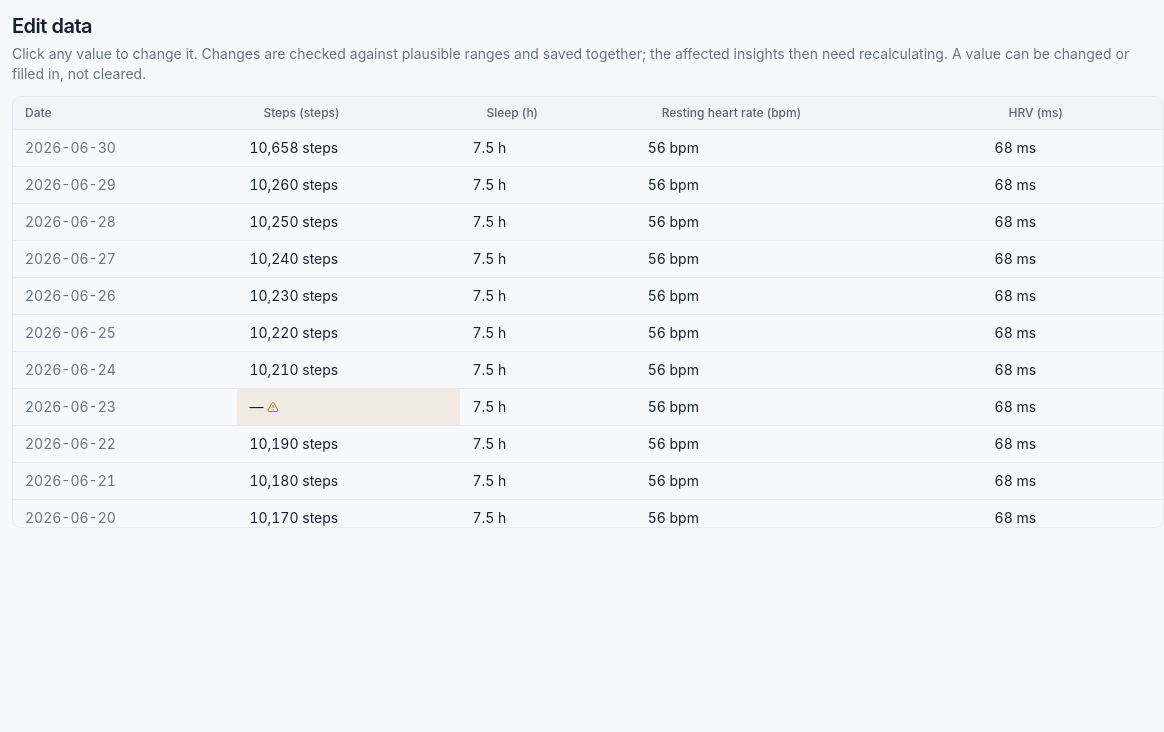
DataEditor › invalid cell input blocks save
Click the button "7.5 h" in the row of "2026-06-30" at (548, 148), box [466,134,630,162]
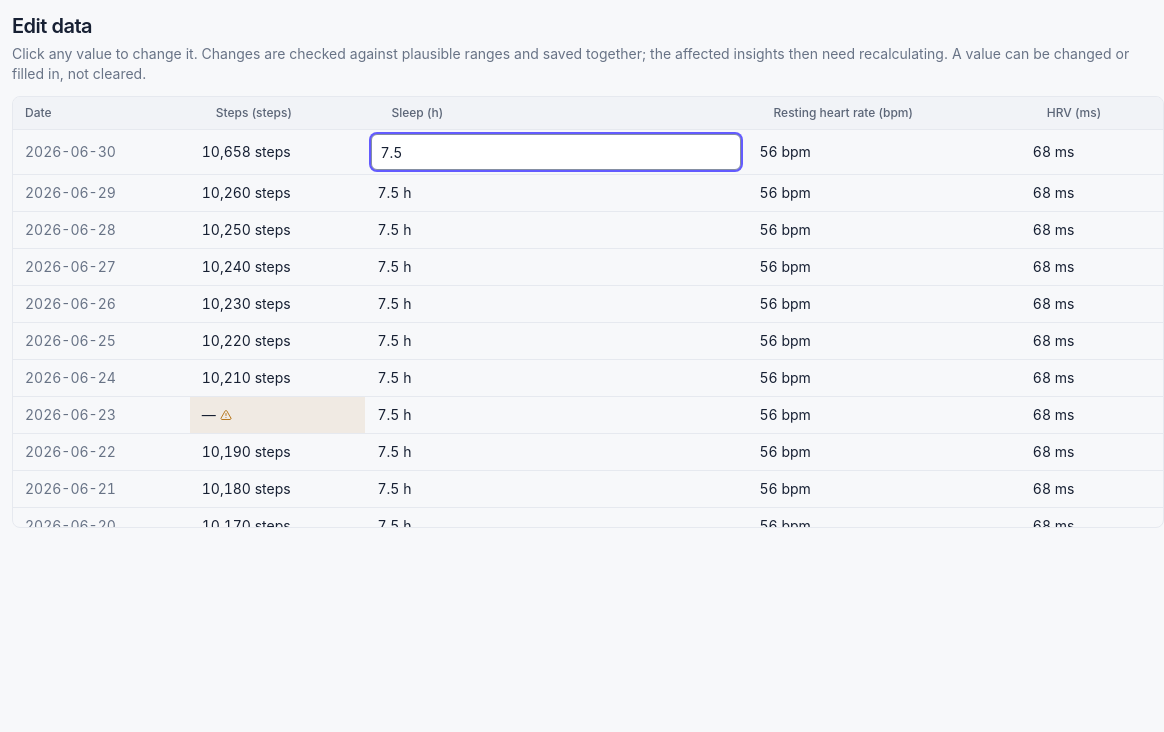
Replace the text in the field with "abc" at (556, 152), box [372,134,742,170]
Then press Enter
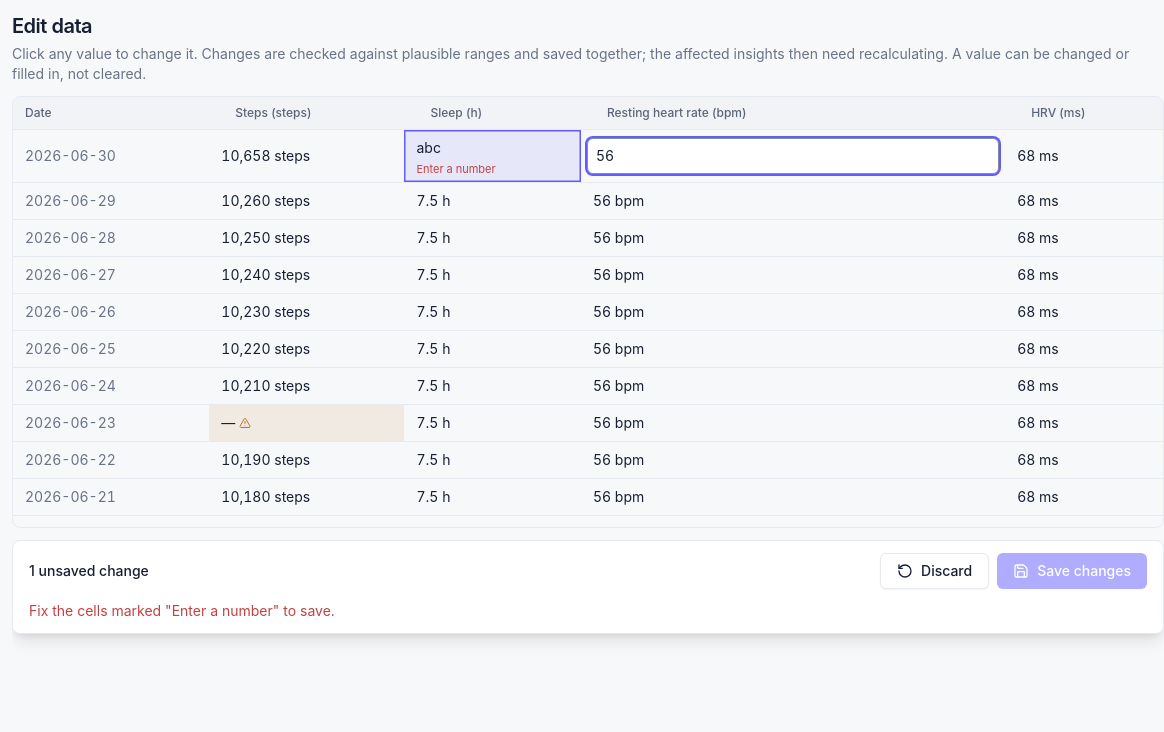
Expected: the cell with test id "cell-2026-06-30-sleep_hours" shows "Enter a number", [416,162,496,176]
Expected: the button "Save changes" is disabled, [997,553,1147,589]
